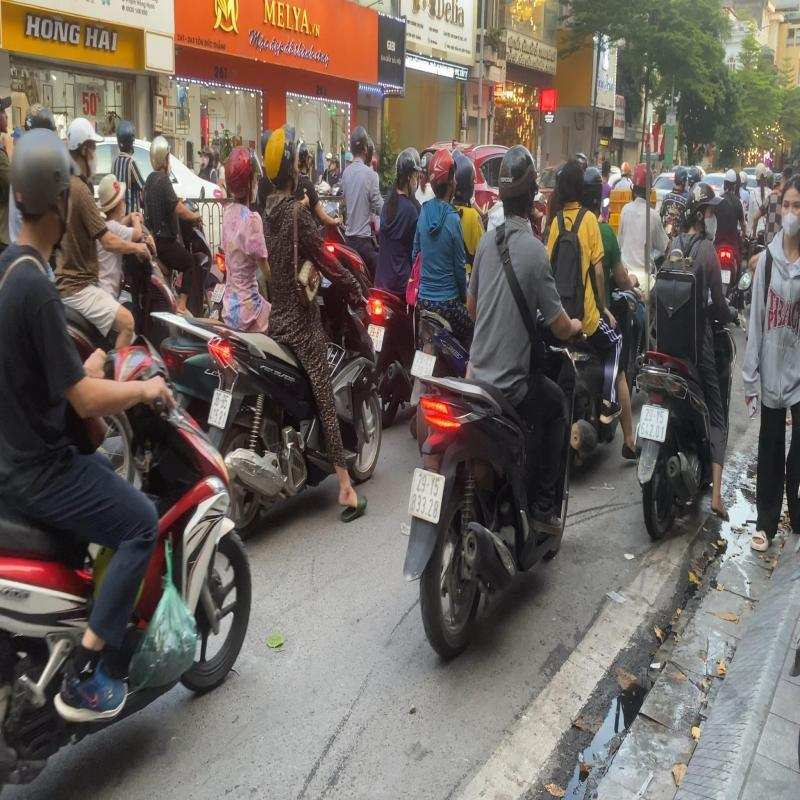nohelmet: (555, 155, 586, 207)
